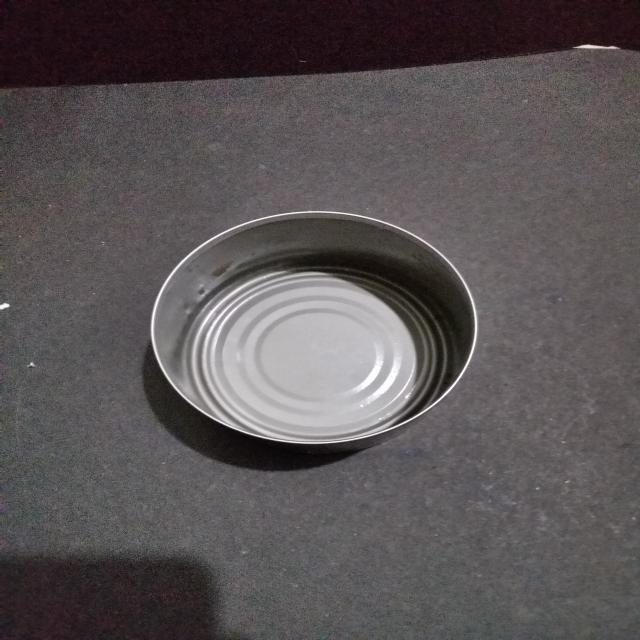metal-can: (145, 202, 483, 448)
